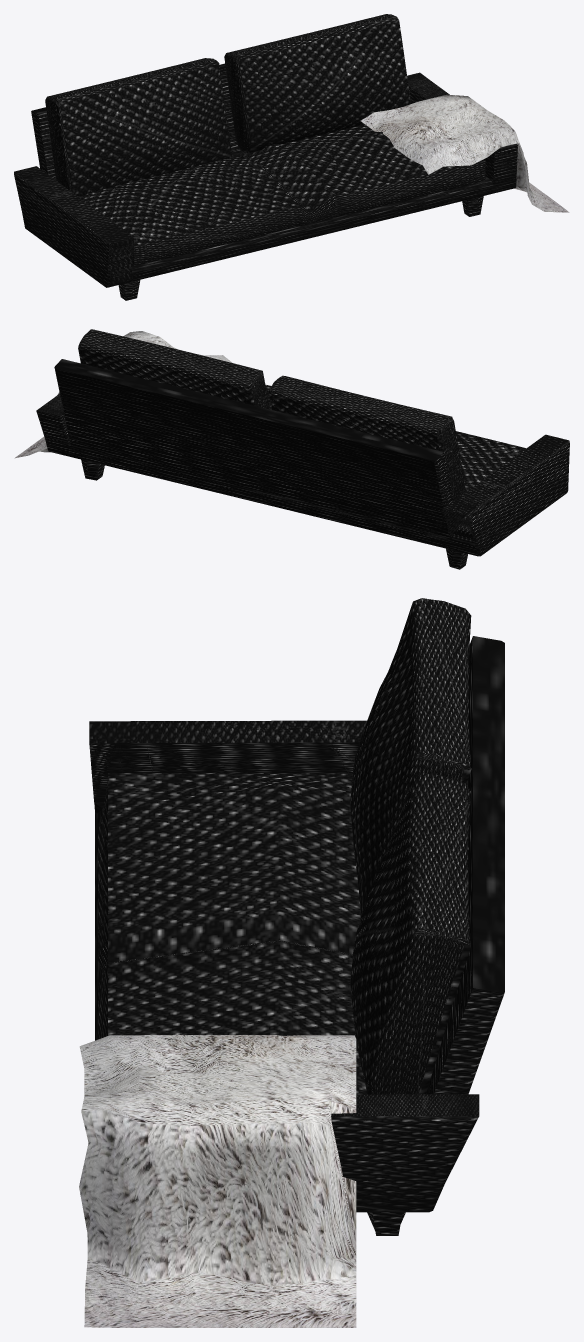
The model's file is Couch.fbx.
The picture shows the model from 3 angles, top to bottom: view 1: azimuth 30°, elevation 25°; view 2: azimuth 150°, elevation 25°; view 3: azimuth 270°, elevation 25°; orthographic projection. The views are drawn at different scales.
Visible parts, largest first — view 1: backpillows, buttpillows, maincouch, blanket; view 2: maincouch, backpillows, buttpillows, blanket; view 3: blanket, buttpillows, backpillows, maincouch.
Part boxes in pixels (x1=…): backpillows: x1=45, y1=14, x2=410, y2=196; buttpillows: x1=78, y1=124, x2=485, y2=266; maincouch: x1=14, y1=63, x2=517, y2=300; blanket: x1=360, y1=94, x2=569, y2=212; maincouch: x1=36, y1=359, x2=569, y2=569; backpillows: x1=78, y1=329, x2=465, y2=500; buttpillows: x1=265, y1=384, x2=525, y2=491; blanket: x1=14, y1=331, x2=232, y2=458; blanket: x1=79, y1=1035, x2=356, y2=1327; buttpillows: x1=98, y1=773, x2=367, y2=1094; backpillows: x1=350, y1=598, x2=471, y2=1094; maincouch: x1=89, y1=636, x2=504, y2=1235.
Size of the model in its own units: 17.86 by 5.8 by 7.17.
